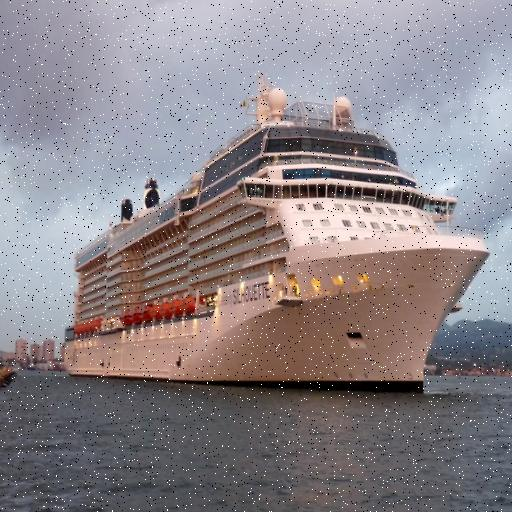cruises: (62, 72, 495, 402)
